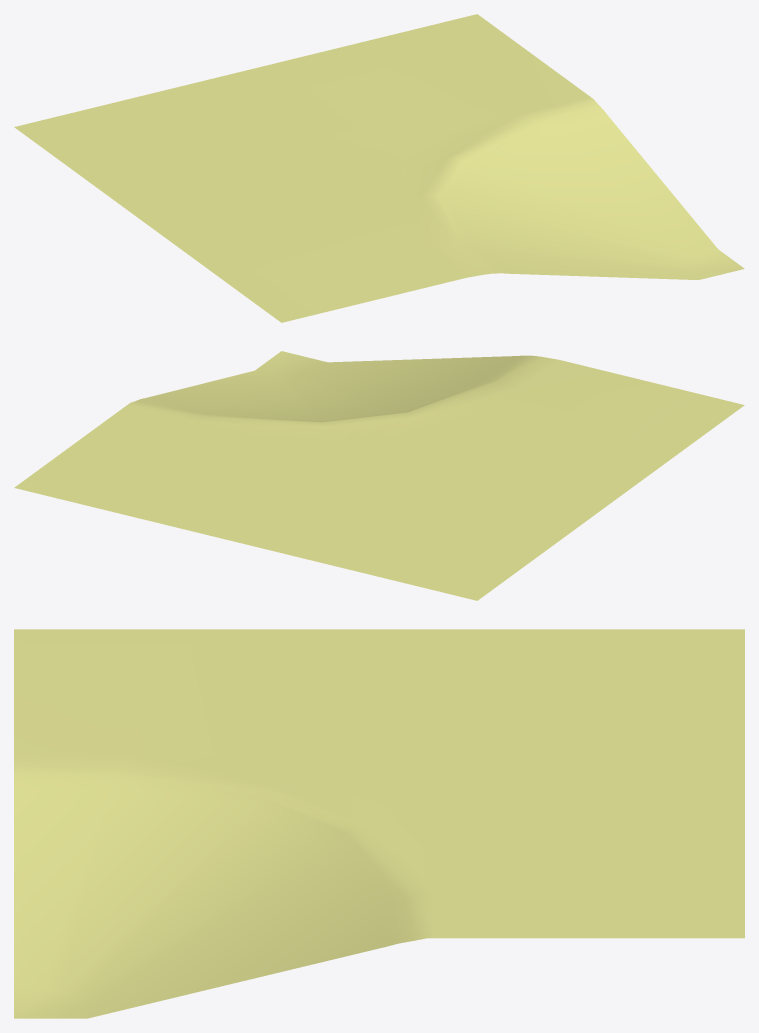
The model's file is sand_slope_inner_corner.fbx.
The picture shows the model from 3 angles, top to bottom: view 1: azimuth 30°, elevation 25°; view 2: azimuth 150°, elevation 25°; view 3: azimuth 270°, elevation 25°; orthographic projection. The views are drawn at different scales.
Parts seen in each view (by area): view 1: Cube.064; view 2: Cube.064; view 3: Cube.064.
Boxes of the visible parts, x1,y1,x2,y2 form: Cube.064: [14, 14, 744, 322]; Cube.064: [14, 351, 744, 600]; Cube.064: [14, 629, 744, 1018].
Size of the model in its own units: 200 by 200 by 24.61.
